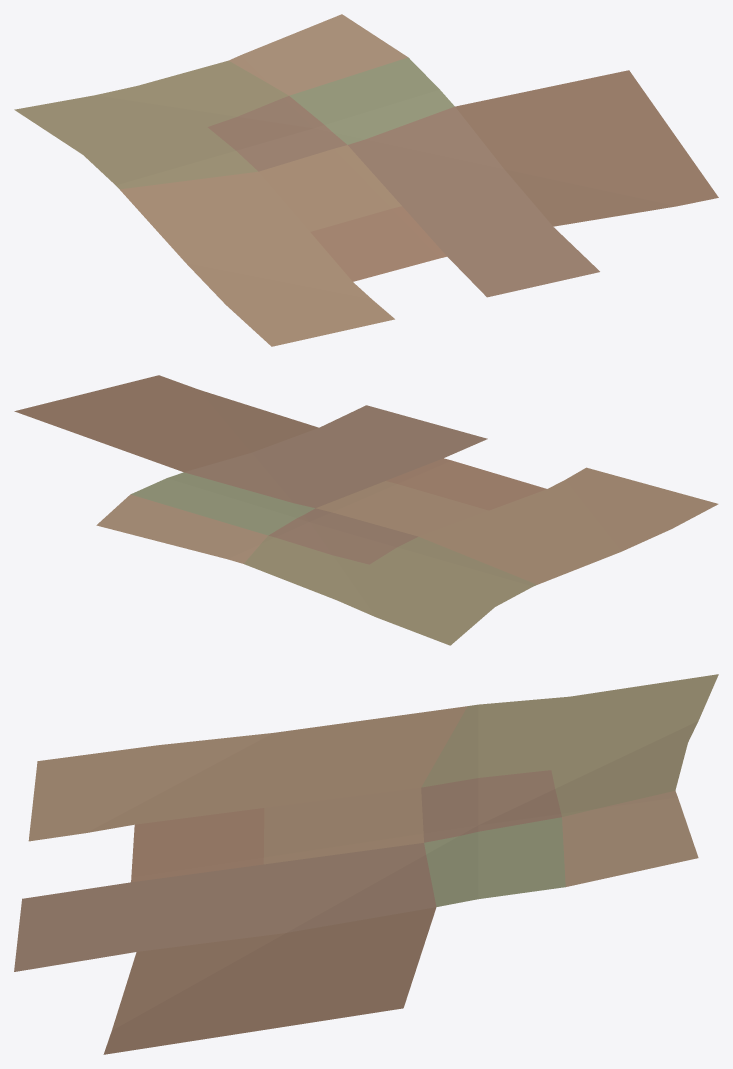
File: farm_7_36_soil.glb
3 renders of one model, top to bottom at view 1: azimuth 30°, elevation 25°; view 2: azimuth 150°, elevation 25°; view 3: azimuth 270°, elevation 25°, orthographic. The views are drawn at different scales.
Visible parts, largest first — view 1: geometry_0; view 2: geometry_0; view 3: geometry_0.
Boxes of the visible parts, box(x1,y1,x2,y2) form: geometry_0: box(14, 14, 718, 346); geometry_0: box(14, 375, 718, 645); geometry_0: box(14, 674, 718, 1054).
Bounding box in the file's own units: 121 × 18.76 × 107.
